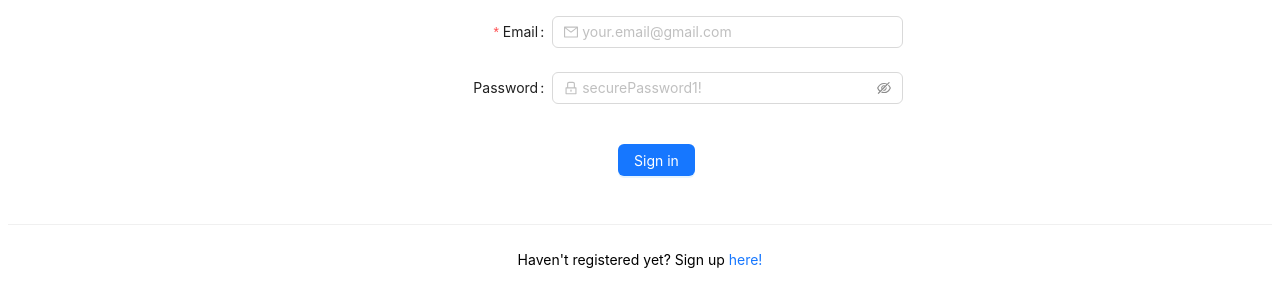
it: LoginForm - password validation › displays validation message for invalid password format if less than 8 characters were used - "1234sS!"
This screenshot has width=1280, height=285.
In the password field with placeholder "securePassword1!": (728, 88) x1=582 y1=77 x2=873 y2=99, type "1234sS!"
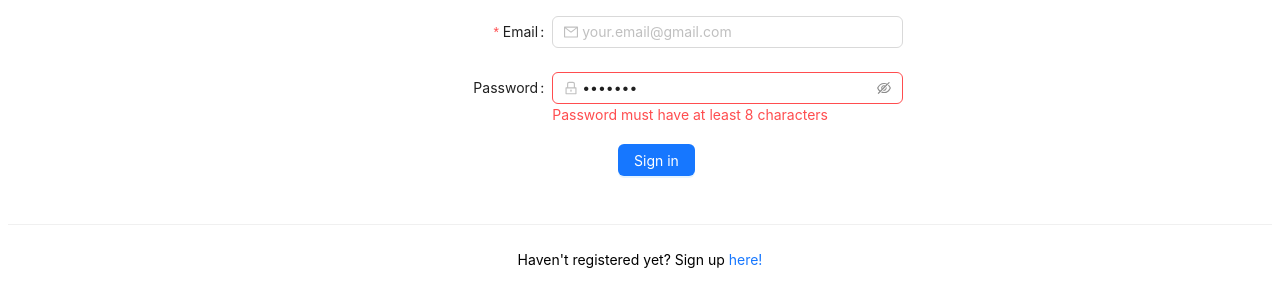
Now the text "Password must have at least 8 characters" is shown, box x1=552 y1=106 x2=828 y2=123
